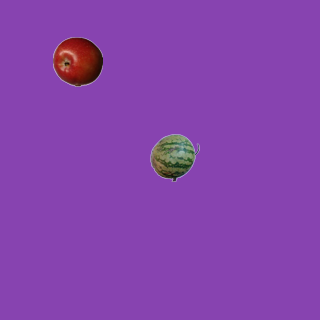Apple Braeburn: (52, 36, 102, 86)
Watermelon: (149, 132, 199, 182)
